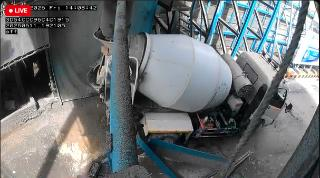cement_mixer_truck: (92, 28, 292, 144)
